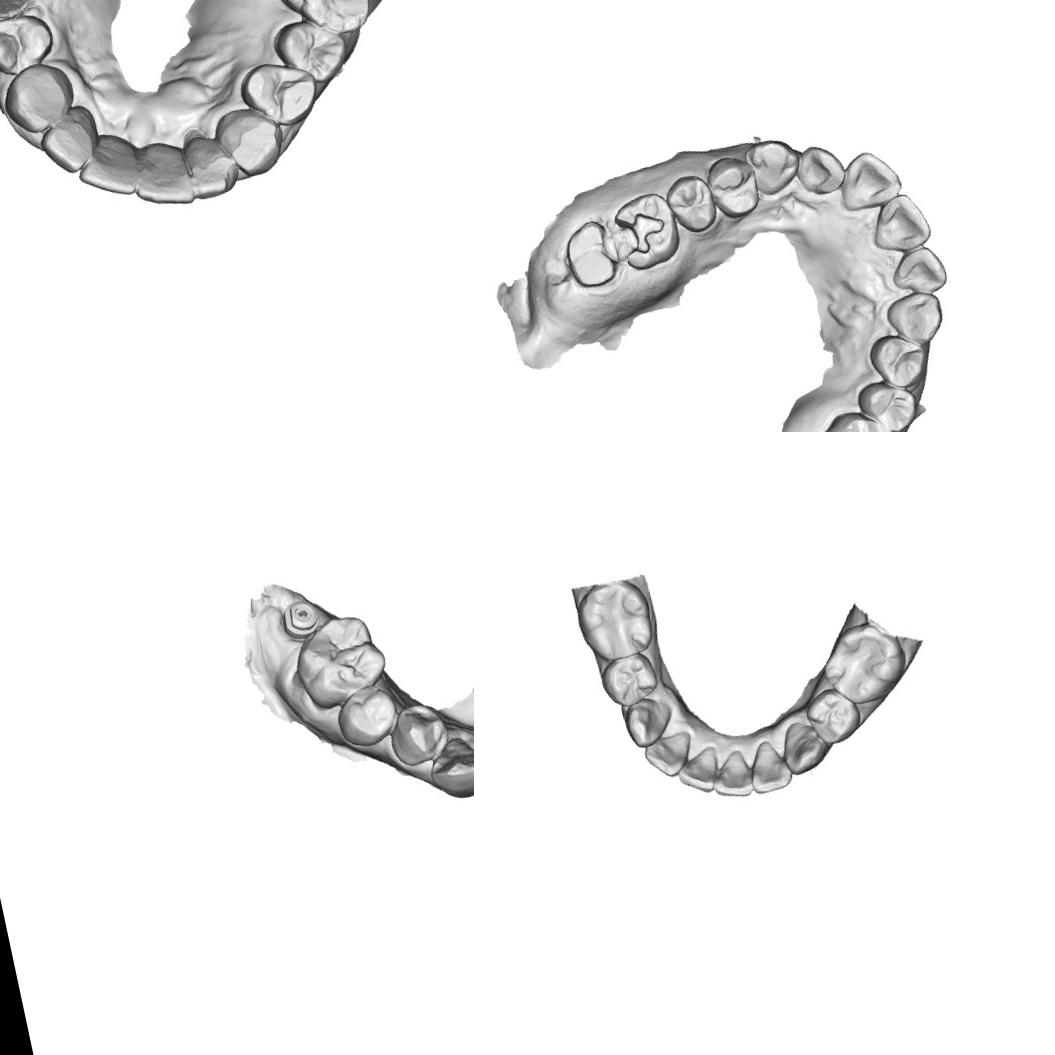canine: (0, 57, 83, 141), (213, 100, 291, 183), (881, 287, 949, 351), (742, 132, 804, 200), (422, 731, 474, 802), (776, 717, 832, 778), (620, 693, 677, 750)
crown: (556, 214, 624, 294)
implant_minus: (277, 595, 318, 637)
incisor: (32, 100, 108, 181), (71, 126, 145, 207), (126, 137, 199, 217), (830, 143, 908, 217), (178, 125, 246, 204), (862, 188, 937, 258), (886, 242, 952, 304), (790, 136, 850, 198), (743, 736, 794, 796), (640, 730, 698, 782), (672, 744, 724, 798), (707, 747, 756, 803)
inlay: (610, 205, 674, 264)
molar: (284, 606, 396, 716), (814, 614, 913, 710), (570, 574, 658, 667), (270, 0, 385, 47), (810, 401, 906, 432)
premolar: (235, 52, 324, 136), (268, 10, 355, 92), (328, 678, 405, 754), (382, 696, 455, 775), (864, 326, 934, 396), (702, 150, 765, 224), (0, 7, 59, 81), (852, 372, 923, 432), (801, 682, 865, 748), (660, 170, 719, 240), (596, 650, 662, 710)
